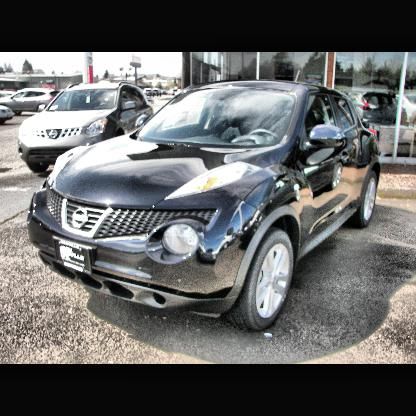Nissan Juke Hatchback 2012: (29, 81, 382, 333)
